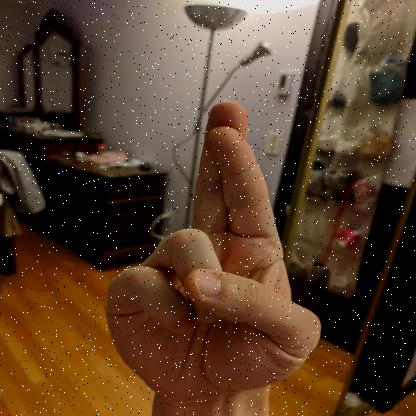R: (105, 101, 321, 399)
